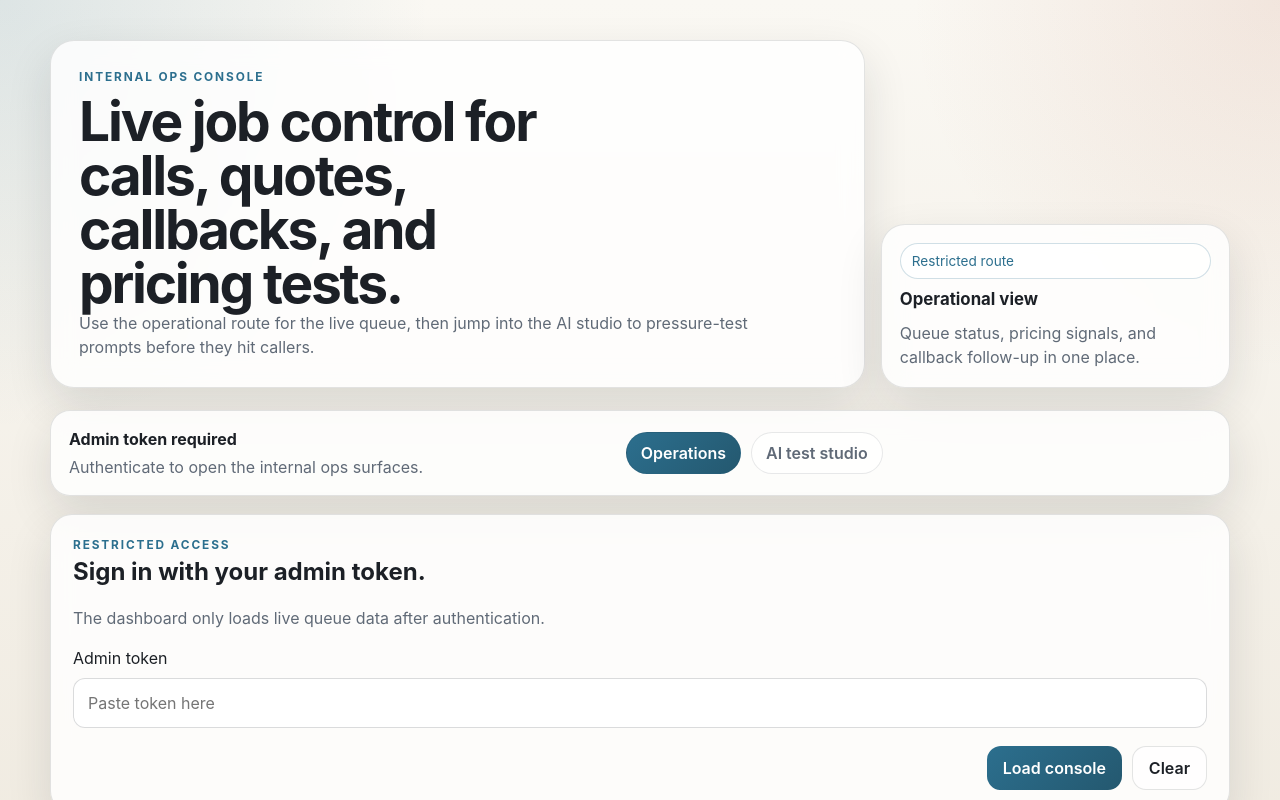
Test: ops console › renders the operational queue after a successful load
Type "good-token" into the password field labelled "Admin token" at (640, 703), box [73,678,1207,728]
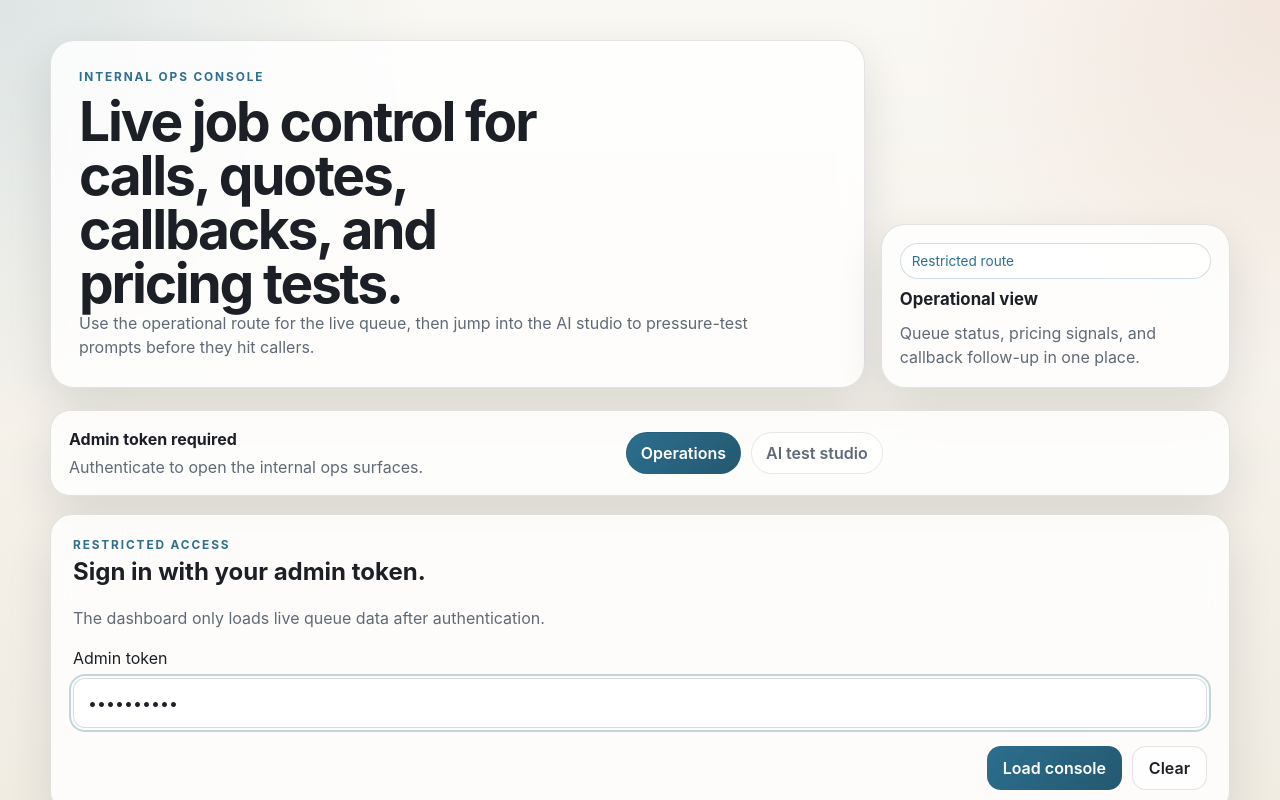
Click the button "Load console" at (1054, 768), box [987,746,1122,790]
(page scrolled)
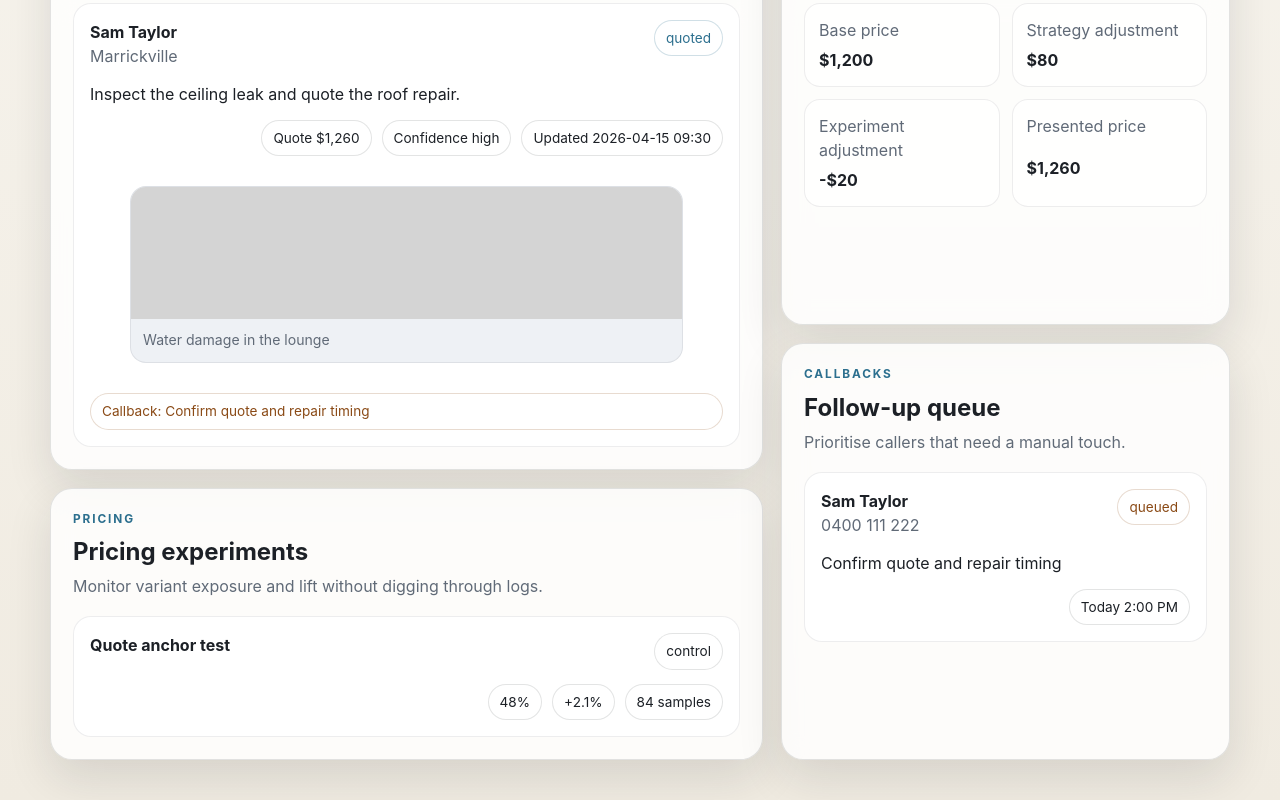
Check: the text "Inspect the ceiling leak and quote the roof repair." is shown, box [90,84,460,104]
Check: the heading "Follow-up queue" is shown, box [804,393,1000,422]
Check: the text "Quote anchor test" is shown, box [90,633,230,657]
